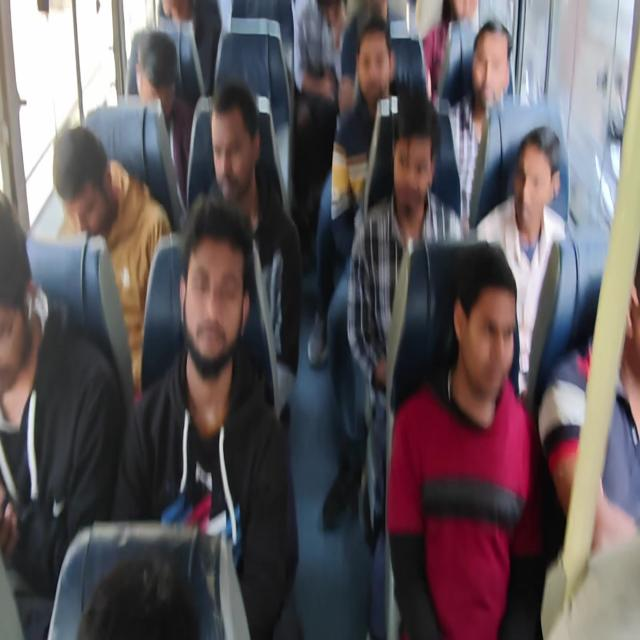person: (1, 1, 638, 638), (112, 193, 300, 638), (346, 87, 464, 638), (386, 240, 536, 638), (0, 188, 124, 638), (203, 79, 302, 427), (52, 125, 172, 399), (307, 14, 395, 367), (538, 252, 639, 553), (476, 124, 578, 409), (448, 19, 513, 232), (292, 0, 348, 241), (134, 30, 195, 209), (76, 555, 202, 639), (158, 0, 221, 98), (421, 0, 478, 102)
